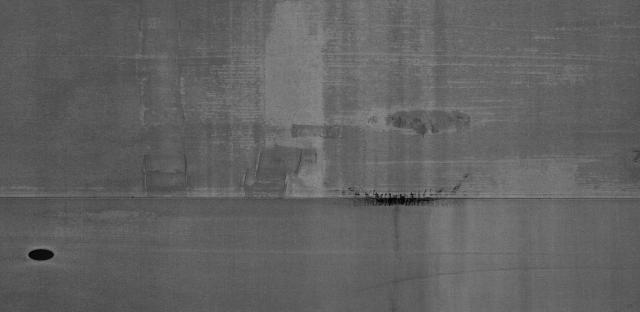inclusion: (338, 184, 463, 208)
punching_hole: (23, 239, 59, 266)
welding_line: (2, 189, 638, 212)
